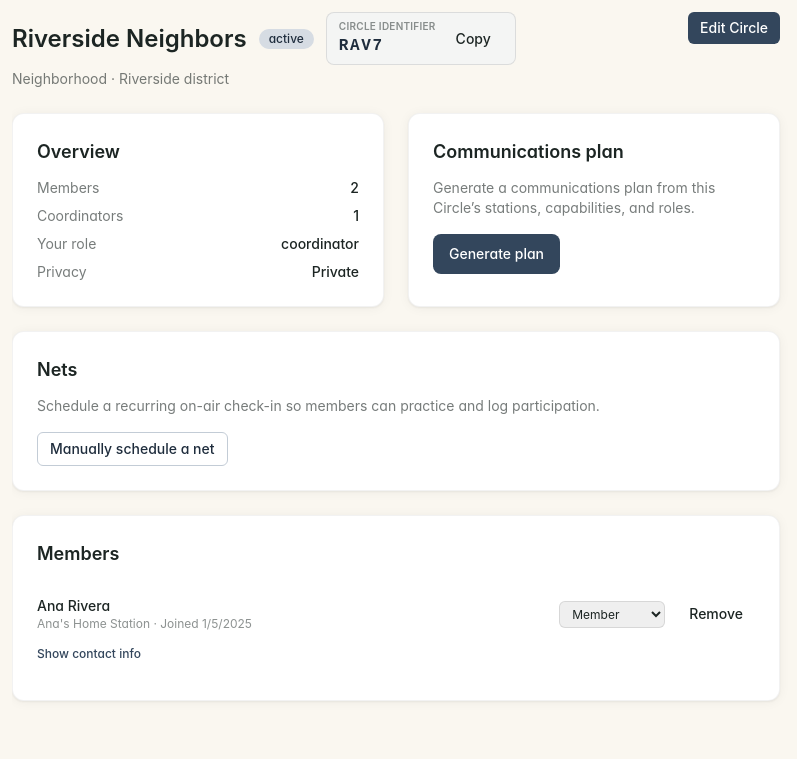
Test: CircleDetailPage members list › reveals only the contact fields a member has shared, on demand
Expected: the text "555-0100" is not shown
Click the button "Show contact info" at (89, 654), box [37,646,141,662]
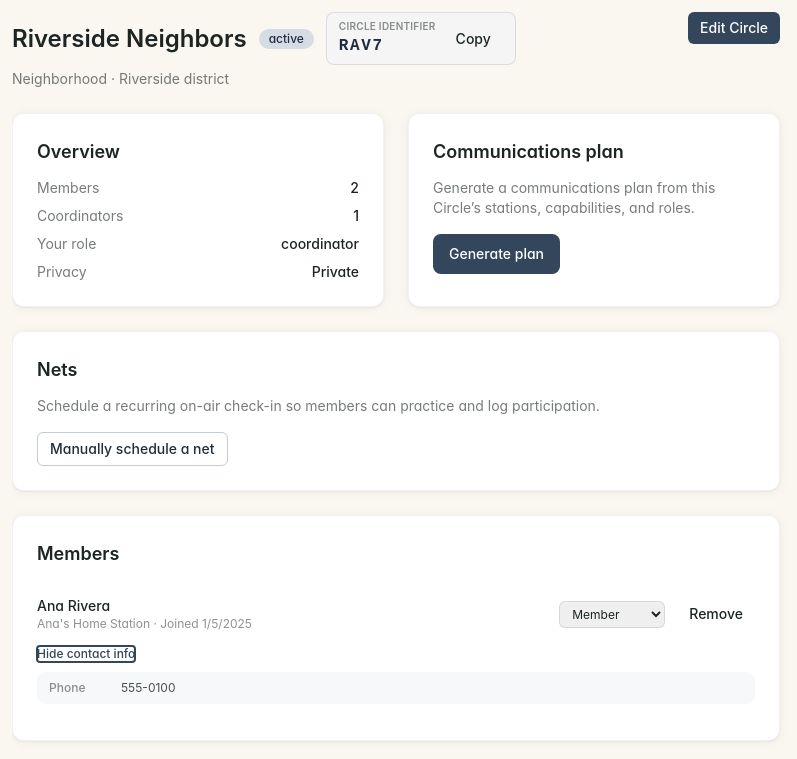
Expected: the text "555-0100" is shown, [121,680,176,696]
Click the button "Hide contact info" at (86, 654), box [37,646,135,662]
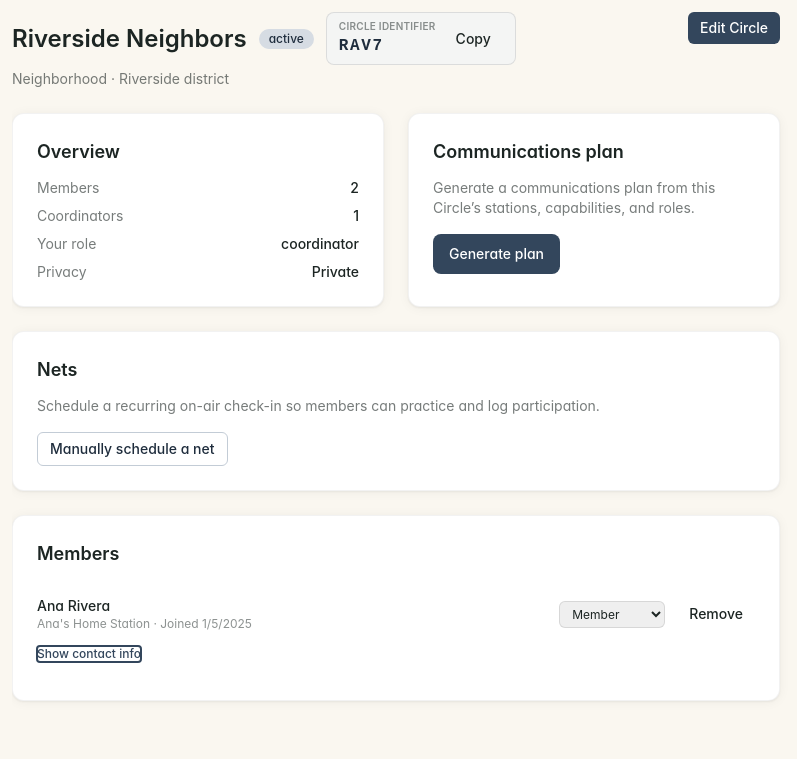
Expected: the text "555-0100" is gone
